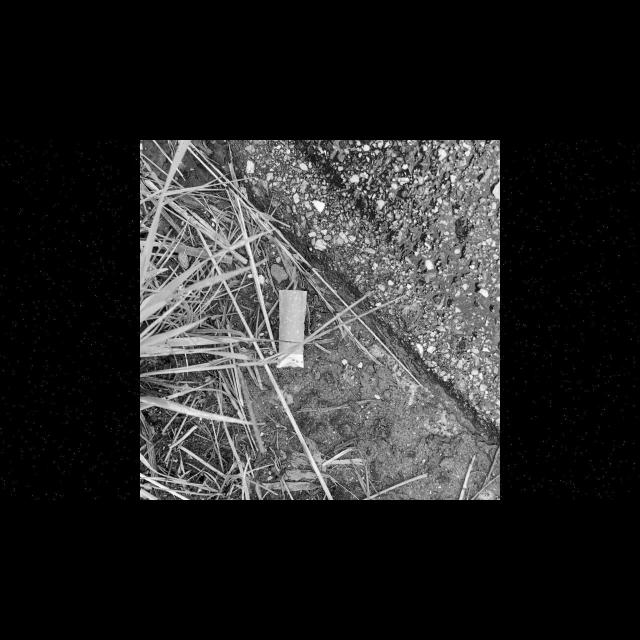cigarette: (276, 289, 308, 369)
